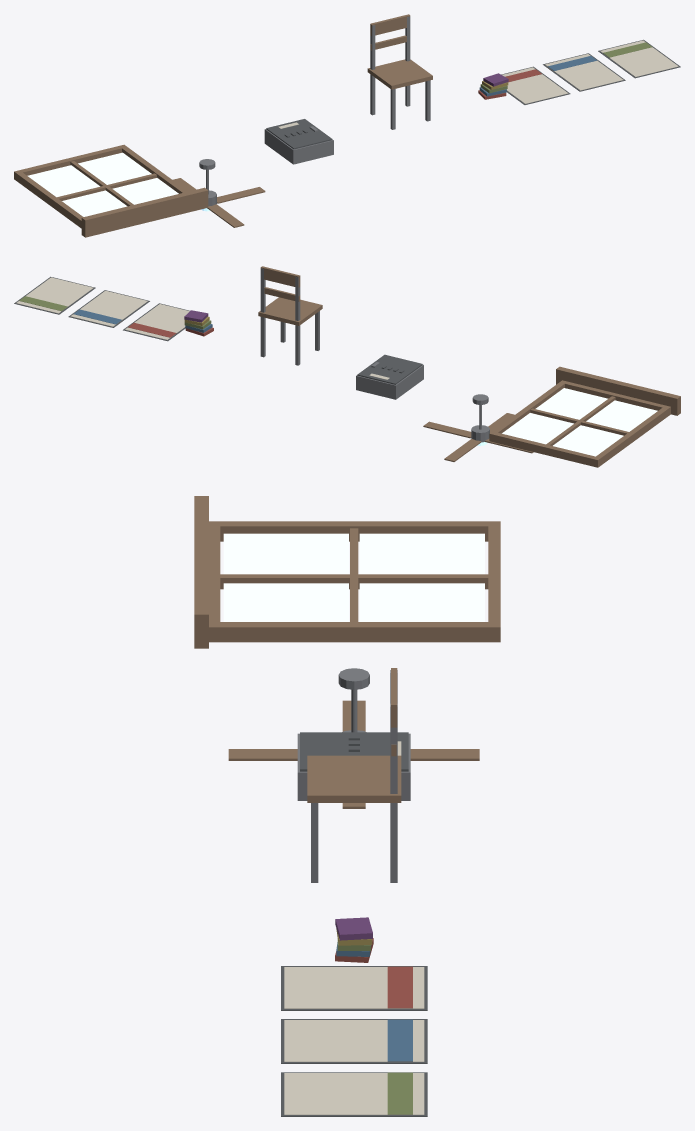
File: SM_Hostel_Detail.fbx
The picture shows the model from 3 angles, top to bottom: view 1: azimuth 30°, elevation 25°; view 2: azimuth 150°, elevation 25°; view 3: azimuth 270°, elevation 25°; orthographic projection. The views are drawn at different scales.
Visible parts, largest first — view 1: SM_Detail_Win_Sill, SM_Detail_Win_Glass_1_1, SM_Detail_Poster_Face_2, SM_Detail_Poster_Face_1, SM_Detail_Win_Glass_-1_1, SM_Detail_Chair_Seat, SM_Detail_Poster_Face_0, SM_Detail_Break_Body, SM_Detail_Break_Door, SM_Detail_Win_Glass_1_-1, SM_Detail_Win_Glass_-1_-1, SM_Detail_Win_FrameX_-1 (+5 smaller); view 2: SM_Detail_Win_Sill, SM_Detail_Win_Glass_1_-1, SM_Detail_Poster_Face_1, SM_Detail_Win_Glass_1_1, SM_Detail_Poster_Face_2, SM_Detail_Win_Glass_-1_-1, SM_Detail_Win_Glass_-1_1, SM_Detail_Win_FrameY_1, SM_Detail_Poster_Face_0, SM_Detail_Chair_Seat, SM_Detail_Break_Body, SM_Detail_Break_Door (+8 smaller); view 3: SM_Detail_Win_FrameX_1, SM_Detail_Win_Glass_-1_-1, SM_Detail_Win_Glass_-1_1, SM_Detail_Win_Glass_1_-1, SM_Detail_Win_Glass_1_1, SM_Detail_Poster_Face_0, SM_Detail_Poster_Face_1, SM_Detail_Poster_Face_2, SM_Detail_Chair_Seat, SM_Detail_Win_FrameX_-1, SM_Detail_Win_MullionV, SM_Detail_Break_Door (+6 smaller).
Boxes of the visible parts, x1=… form: SM_Detail_Win_Sill: x1=81, y1=187, x2=208, y2=237; SM_Detail_Win_Glass_1_1: x1=78, y1=152, x2=151, y2=184; SM_Detail_Poster_Face_2: x1=600, y1=40, x2=678, y2=76; SM_Detail_Poster_Face_1: x1=545, y1=54, x2=623, y2=90; SM_Detail_Win_Glass_-1_1: x1=27, y1=165, x2=100, y2=197; SM_Detail_Chair_Seat: x1=367, y1=59, x2=432, y2=89; SM_Detail_Poster_Face_0: x1=502, y1=67, x2=568, y2=103; SM_Detail_Break_Body: x1=264, y1=129, x2=333, y2=164; SM_Detail_Break_Door: x1=266, y1=119, x2=332, y2=149; SM_Detail_Win_Glass_1_-1: x1=112, y1=178, x2=178, y2=204; SM_Detail_Win_Glass_-1_-1: x1=62, y1=190, x2=127, y2=216; SM_Detail_Win_FrameX_-1: x1=14, y1=170, x2=83, y2=228; SM_Detail_Win_Sill: x1=556, y1=366, x2=680, y2=415; SM_Detail_Win_Glass_1_-1: x1=535, y1=388, x2=607, y2=419; SM_Detail_Poster_Face_1: x1=70, y1=290, x2=147, y2=326; SM_Detail_Win_Glass_1_1: x1=502, y1=413, x2=573, y2=444; SM_Detail_Poster_Face_2: x1=16, y1=277, x2=93, y2=313; SM_Detail_Win_Glass_-1_-1: x1=586, y1=400, x2=657, y2=431; SM_Detail_Win_Glass_-1_1: x1=553, y1=425, x2=623, y2=456; SM_Detail_Win_FrameY_1: x1=489, y1=433, x2=601, y2=466; SM_Detail_Poster_Face_0: x1=125, y1=304, x2=189, y2=339; SM_Detail_Chair_Seat: x1=258, y1=297, x2=322, y2=325; SM_Detail_Break_Body: x1=356, y1=364, x2=423, y2=399; SM_Detail_Break_Door: x1=357, y1=354, x2=422, y2=384; SM_Detail_Win_FrameX_1: x1=209, y1=622, x2=500, y2=642; SM_Detail_Win_Glass_-1_-1: x1=223, y1=533, x2=348, y2=574; SM_Detail_Win_Glass_-1_1: x1=359, y1=533, x2=484, y2=574; SM_Detail_Win_Glass_1_-1: x1=223, y1=583, x2=348, y2=621; SM_Detail_Win_Glass_1_1: x1=359, y1=583, x2=484, y2=621; SM_Detail_Poster_Face_0: x1=284, y1=967, x2=424, y2=1008; SM_Detail_Poster_Face_1: x1=284, y1=1020, x2=424, y2=1061; SM_Detail_Poster_Face_2: x1=284, y1=1073, x2=424, y2=1114; SM_Detail_Chair_Seat: x1=307, y1=755, x2=401, y2=802; SM_Detail_Win_FrameX_-1: x1=209, y1=521, x2=500, y2=541; SM_Detail_Win_MullionV: x1=220, y1=574, x2=488, y2=589; SM_Detail_Break_Door: x1=300, y1=732, x2=408, y2=771.
Bounding box in the file's own units: 6.72 × 1.4 × 1.46.
